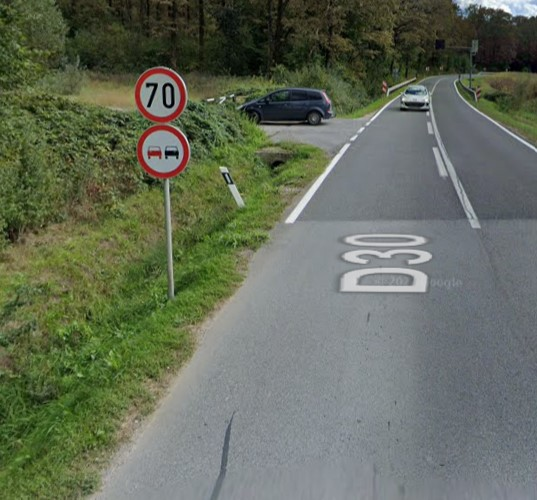Ograničenje brzine 70: (134, 66, 187, 123)
Zabrana pretjecanja: (136, 124, 190, 178)
